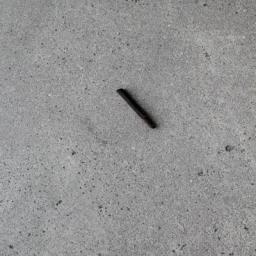FOD: (112, 88, 165, 132)
